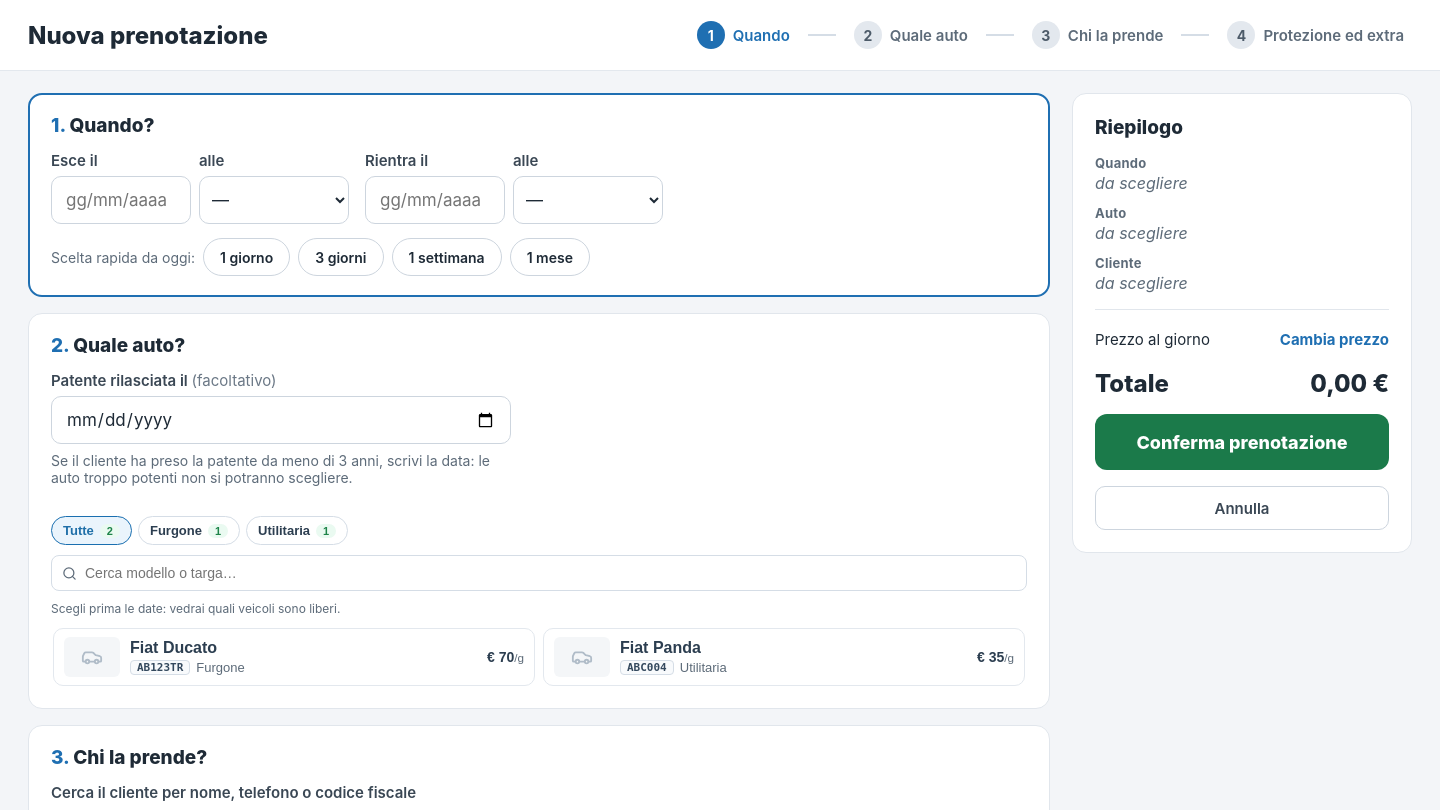
Scenario: se manca qualcosa non salva e dice cosa manca
Click the button "Conferma prenotazione".
click(1242, 442)  # box [1095, 414, 1389, 470]
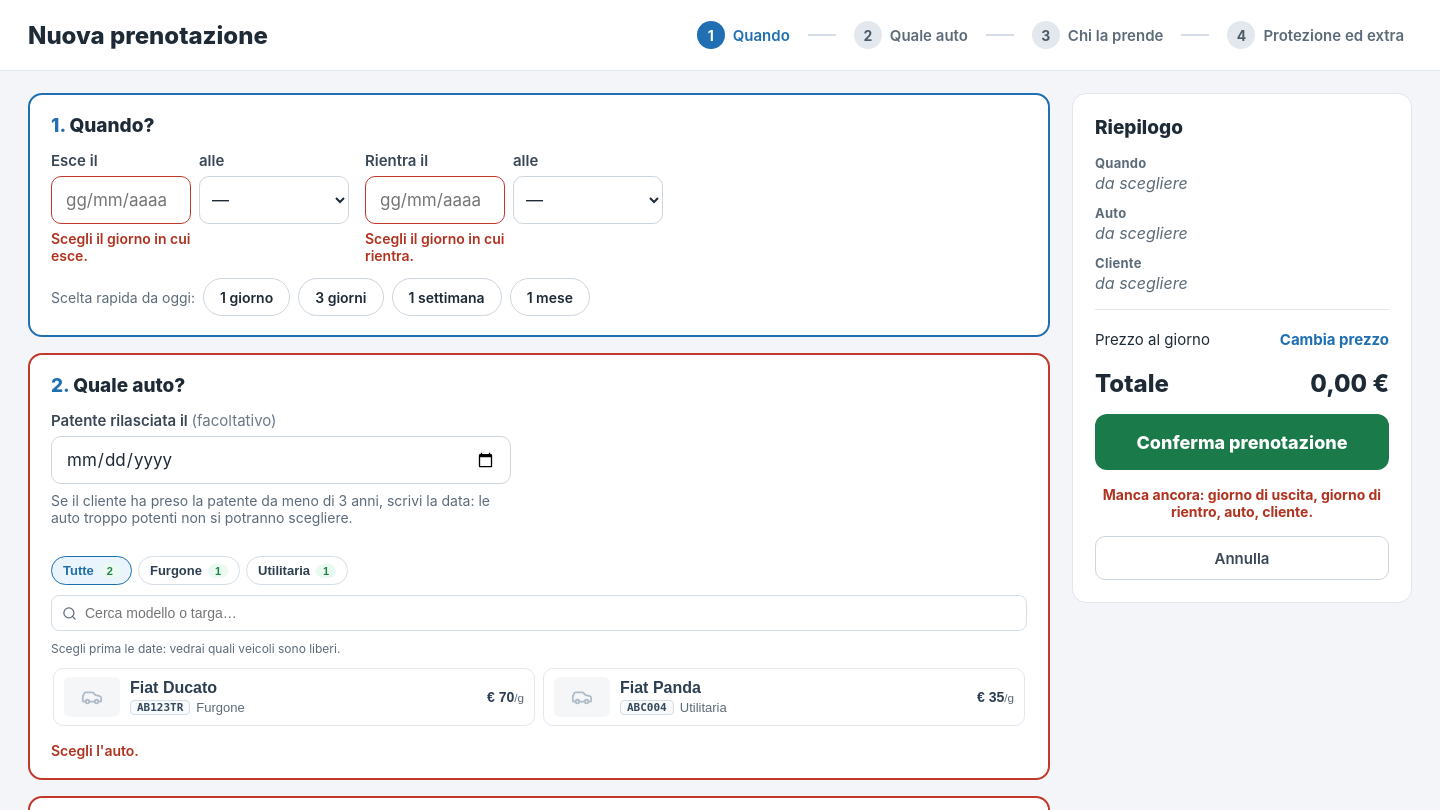
Check: the text "Manca ancora: giorno di uscita, giorno di rientro, auto, cliente." is shown, box [1095, 486, 1389, 520]
